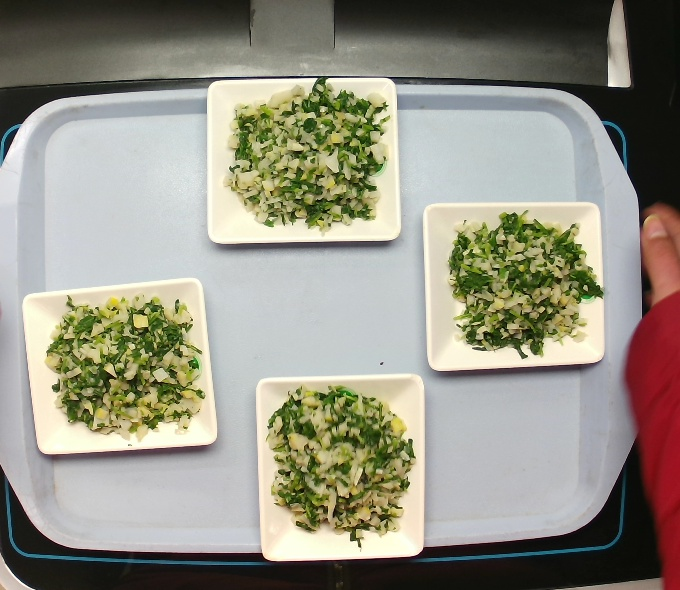wcq-MaLanTouBanChunSun: (28, 282, 223, 450), (248, 381, 423, 545), (217, 78, 393, 236), (433, 214, 600, 352)
